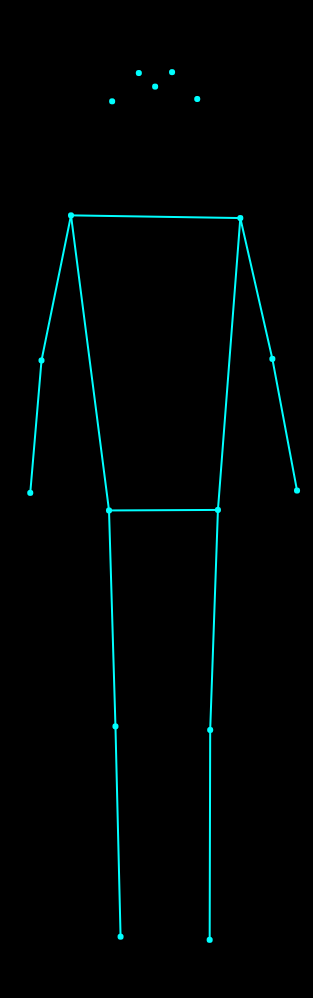mountain: (18, 57, 304, 948)
